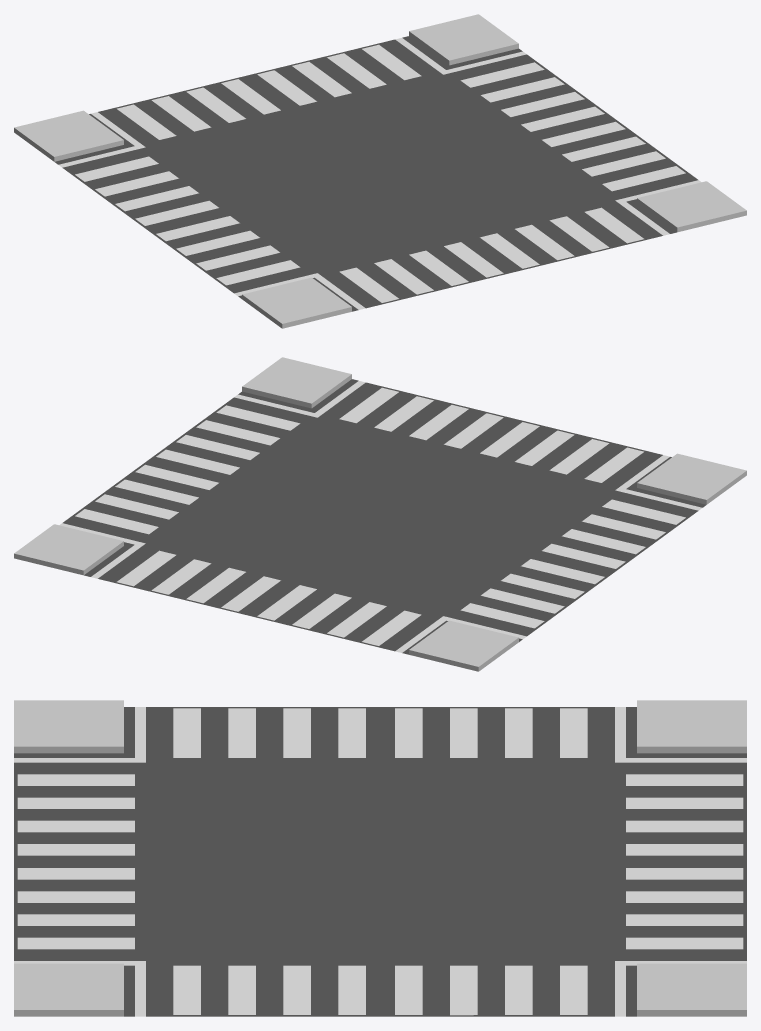
The model's file is SPW_Urban_Road 2way_Intersection_01.gltf.
The picture shows the model from 3 angles, top to bottom: view 1: azimuth 30°, elevation 25°; view 2: azimuth 150°, elevation 25°; view 3: azimuth 270°, elevation 25°; orthographic projection. The views are drawn at different scales.
Visible parts, largest first — view 1: SPW_Urban_Road_2way_Intersection_01; view 2: SPW_Urban_Road_2way_Intersection_01; view 3: SPW_Urban_Road_2way_Intersection_01.
Part boxes in pixels (x1,y1,x2,y2): SPW_Urban_Road_2way_Intersection_01: (14, 14, 746, 328); SPW_Urban_Road_2way_Intersection_01: (14, 357, 746, 671); SPW_Urban_Road_2way_Intersection_01: (14, 700, 746, 1016).
Bounding box in the file's own units: 787 × 7.87 × 787.
1 material, 1 textured.
